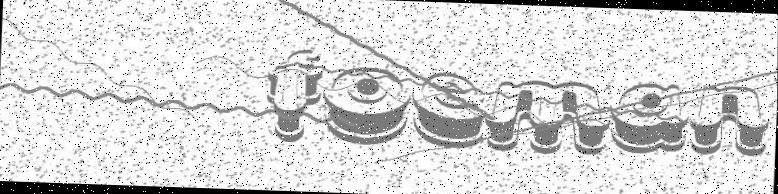a: (605, 73, 689, 161)
e: (412, 69, 492, 154)
f: (258, 37, 328, 145)
m: (486, 73, 617, 160)
n: (690, 69, 776, 168)
o: (323, 58, 412, 145)
